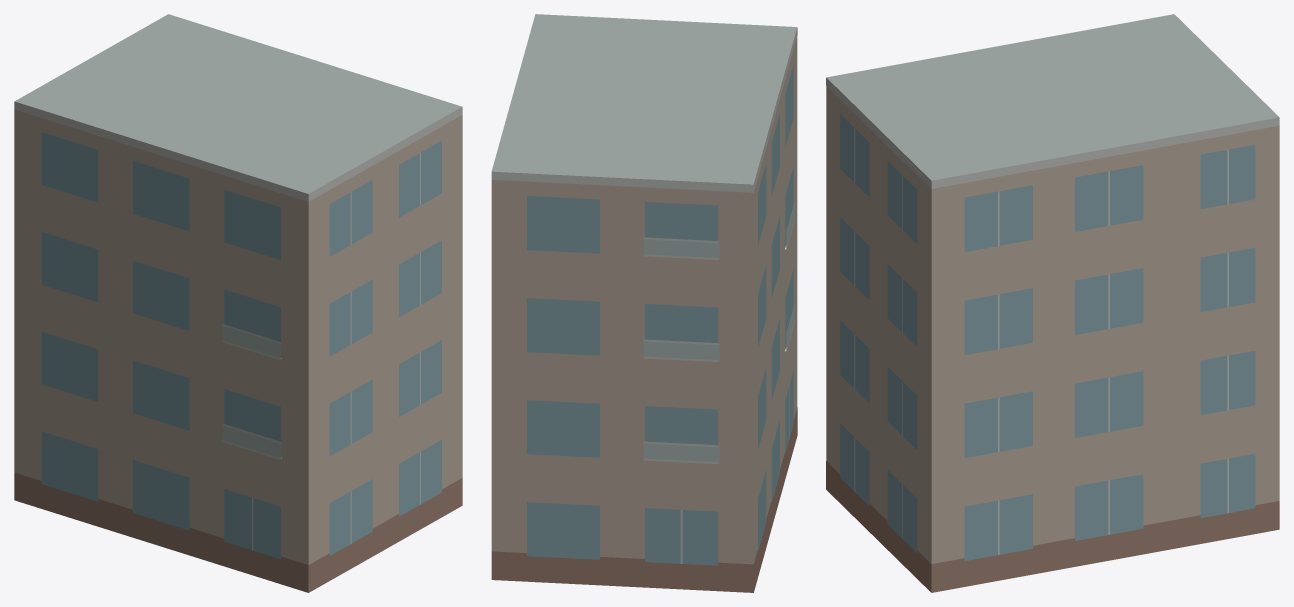
Rendered from residential-f04a38db-6b48-44bc-b9a6-e8b715f65eb1.glb.
The picture shows the model from 3 angles, left to right: view 1: azimuth 30°, elevation 25°; view 2: azimuth 150°, elevation 25°; view 3: azimuth 270°, elevation 25°; orthographic projection. The views are drawn at different scales.
Visible parts, largest first — view 1: residential-f04a38db-6b48-44bc-b9a6-e8b715f65eb1.tmp; view 2: residential-f04a38db-6b48-44bc-b9a6-e8b715f65eb1.tmp; view 3: residential-f04a38db-6b48-44bc-b9a6-e8b715f65eb1.tmp.
Part boxes in pixels (x1=…): residential-f04a38db-6b48-44bc-b9a6-e8b715f65eb1.tmp: x1=14, y1=14, x2=462, y2=592; residential-f04a38db-6b48-44bc-b9a6-e8b715f65eb1.tmp: x1=491, y1=14, x2=797, y2=592; residential-f04a38db-6b48-44bc-b9a6-e8b715f65eb1.tmp: x1=826, y1=14, x2=1279, y2=592.
Bounding box in the file's own units: 10.6 × 12.2 × 12.18.
